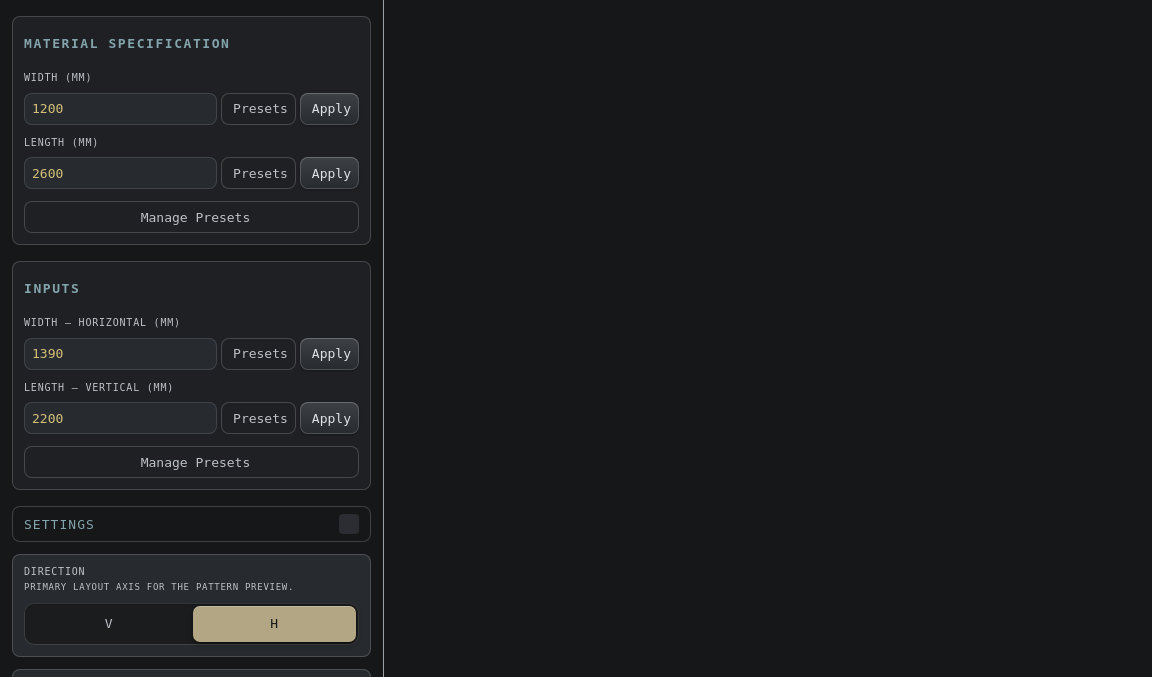
the surface layout page › collapsing the settings panel › hides its controls and brings them back
Expected: the element with id "ctrl-direction" is shown, [24,602,359,644]
Click the button "Settings": (59, 524) [12,506,371,542]
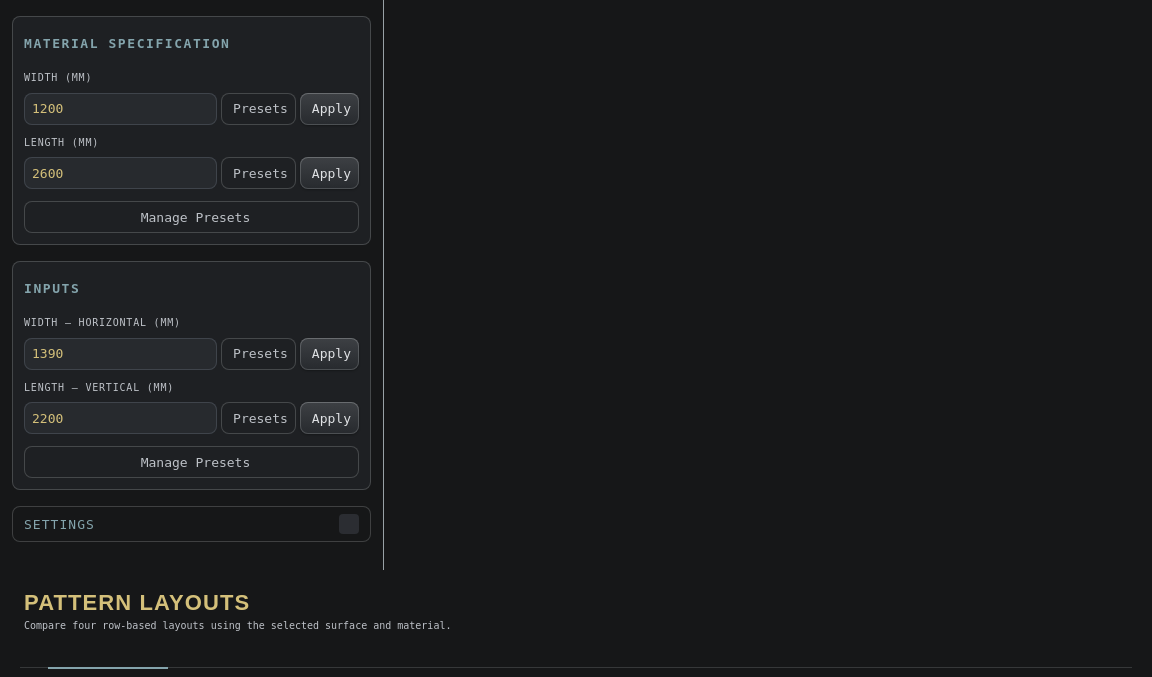
Now the element with id "ctrl-direction" is gone
Click the button "Settings": (59, 524) [12,506,371,542]
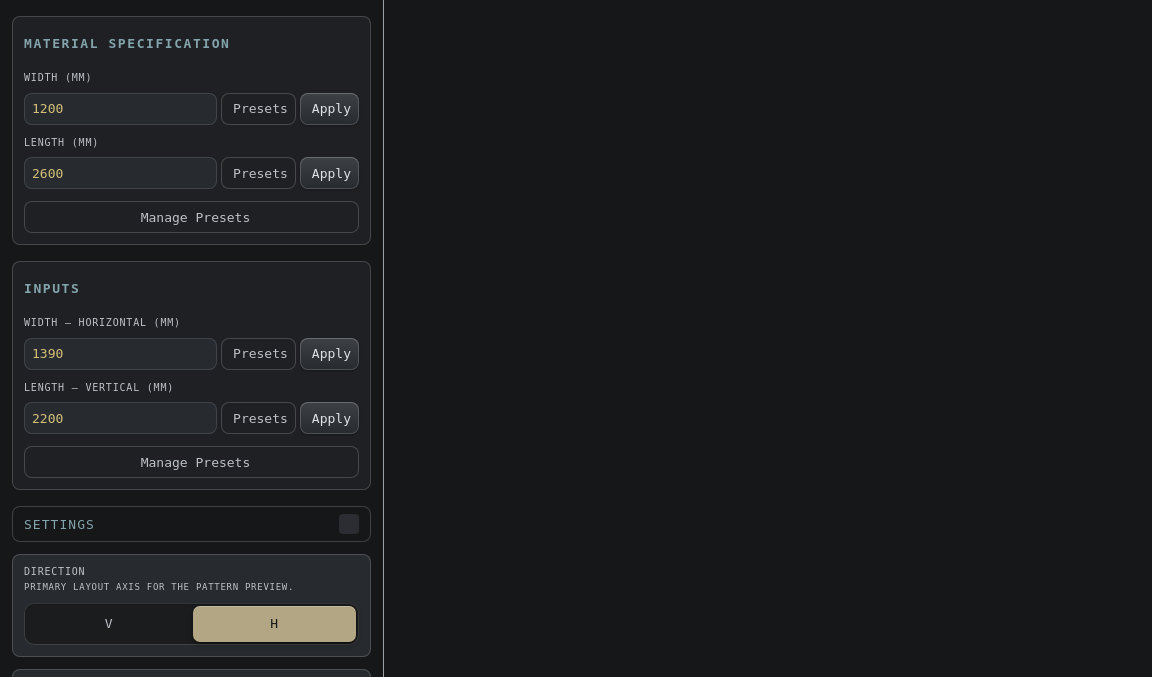
Now the element with id "ctrl-direction" is shown, box [24,602,359,644]
